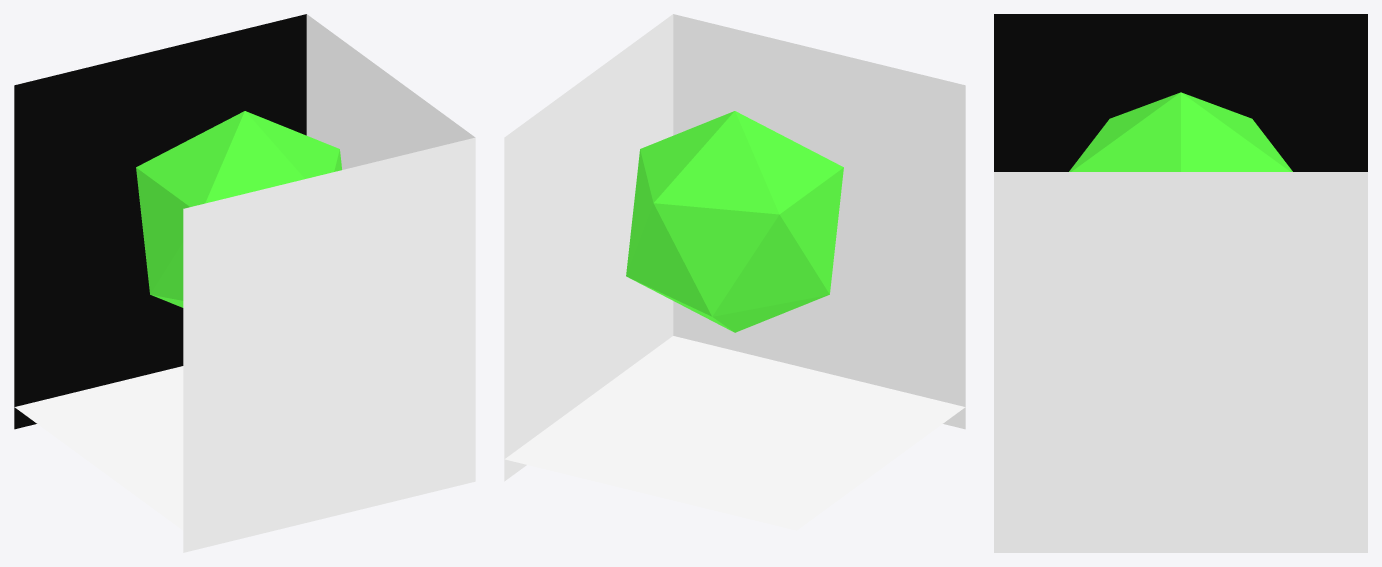
Rendered from point_level_01.glb.
3 views of the same model, side by side, from view 1: azimuth 30°, elevation 25°; view 2: azimuth 150°, elevation 25°; view 3: azimuth 270°, elevation 25° (orthographic). The views are drawn at different scales.
Parts seen in each view (by area): view 1: walls_01, walls_02, Icosphere, container; view 2: walls_01, container, Icosphere; view 3: walls_01, walls_02, Icosphere.
Boxes of the visible parts, bbox=[...] form: walls_01: bbox=[183, 14, 475, 552]; walls_02: bbox=[14, 14, 306, 429]; Icosphere: bbox=[136, 111, 341, 307]; container: bbox=[14, 366, 183, 530]; walls_01: bbox=[504, 14, 965, 481]; container: bbox=[505, 336, 965, 530]; Icosphere: bbox=[626, 111, 843, 332]; walls_01: bbox=[994, 172, 1367, 552]; walls_02: bbox=[994, 14, 1367, 171]; Icosphere: bbox=[1069, 92, 1292, 171].
Bounding box in the file's own units: 9.75 × 10.98 × 9.75.
